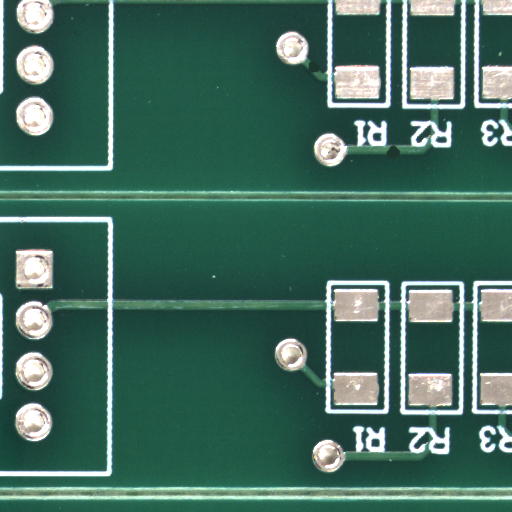Mouse_bite: (393, 151, 408, 161), (315, 67, 327, 78)
